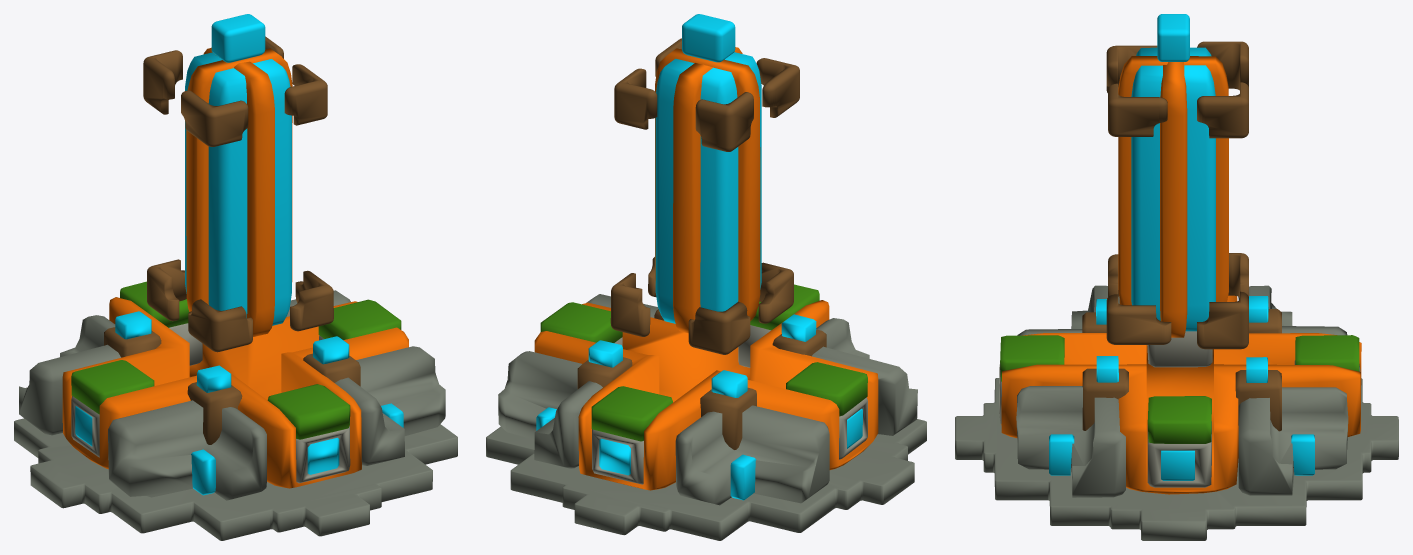
File: IslandHeart_Model.fbx
3 views of the same model, side by side, from view 1: azimuth 30°, elevation 25°; view 2: azimuth 150°, elevation 25°; view 3: azimuth 270°, elevation 25° (orthographic).
Visible parts, largest first — view 1: Plane, Cube, Base, Cube.004, Cube.001, Cube.003; view 2: Plane, Cube, Base, Cube.004, Cube.001, Cube.003; view 3: Plane, Cube, Base, Cube.004, Cube.001, Cube.003.
Part boxes in pixels (x1,y1,x2,y2): Plane: [19, 281, 445, 500]; Cube: [185, 47, 292, 336]; Base: [14, 418, 457, 540]; Cube.004: [143, 36, 327, 146]; Cube.001: [147, 259, 333, 352]; Cube.003: [211, 14, 265, 62]; Plane: [498, 284, 917, 505]; Cube: [655, 47, 761, 333]; Base: [486, 419, 926, 540]; Cube.004: [614, 38, 799, 151]; Cube.001: [610, 257, 793, 354]; Cube.003: [682, 14, 735, 62]; Plane: [999, 285, 1361, 497]; Cube: [1118, 47, 1228, 337]; Base: [955, 378, 1398, 540]; Cube.004: [1106, 41, 1248, 138]; Cube.001: [1106, 253, 1248, 349]; Cube.003: [1157, 14, 1189, 61].
Size of the model in its own units: 1031 by 1106 by 1040.
